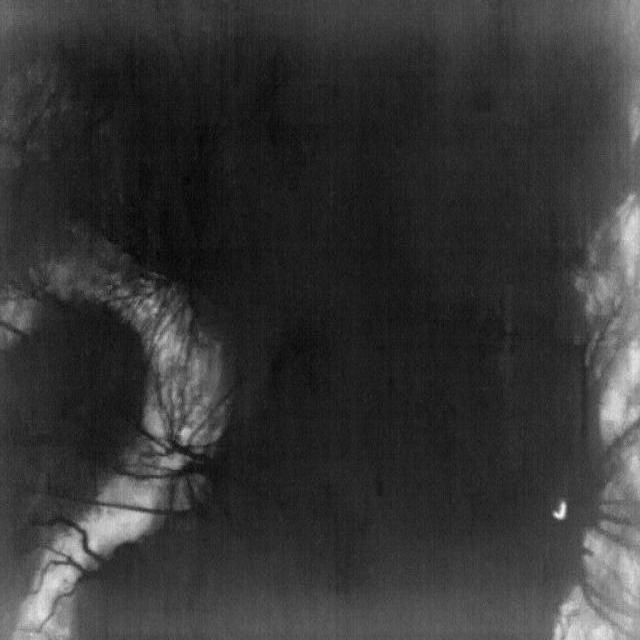deer: (552, 500, 568, 521)
